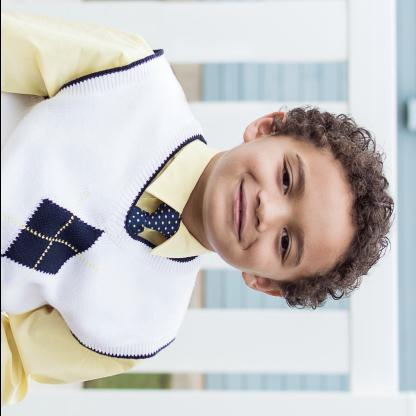Eye: (276, 156, 294, 194), (276, 228, 290, 265)
Mouth: (230, 175, 248, 244)
Nose: (254, 189, 288, 232)
